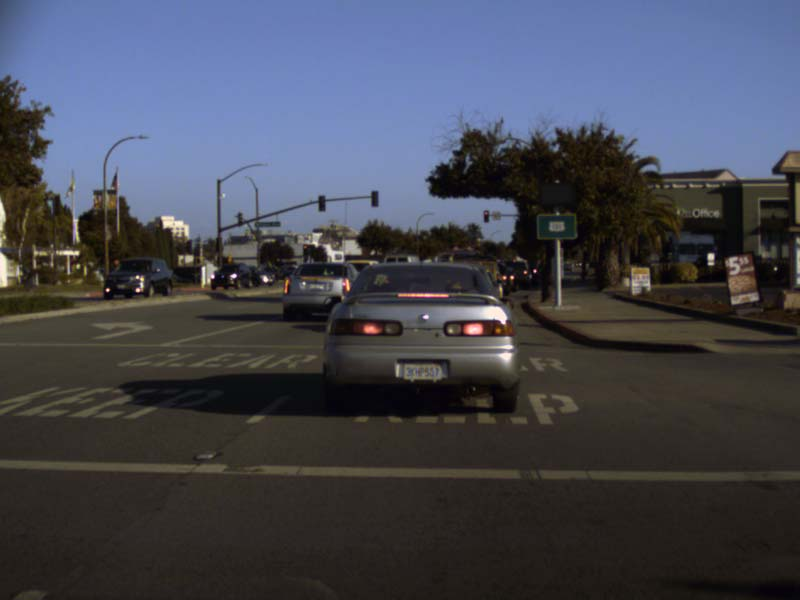Red: (483, 210, 488, 222)
